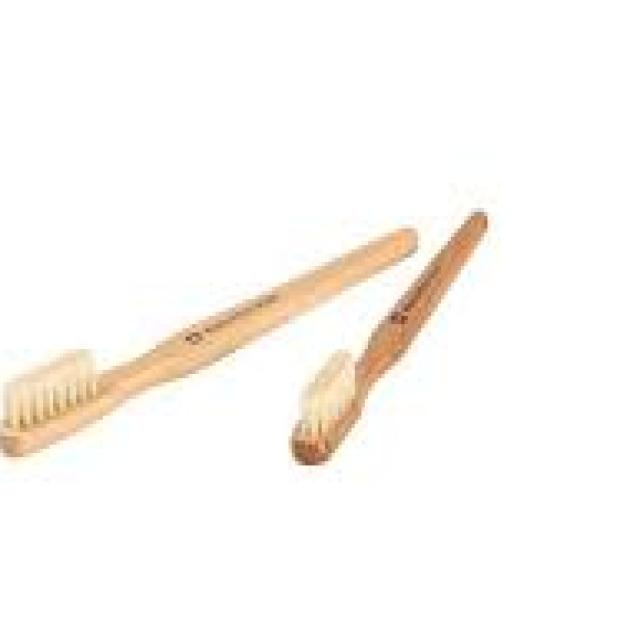organic: (0, 171, 507, 522)
